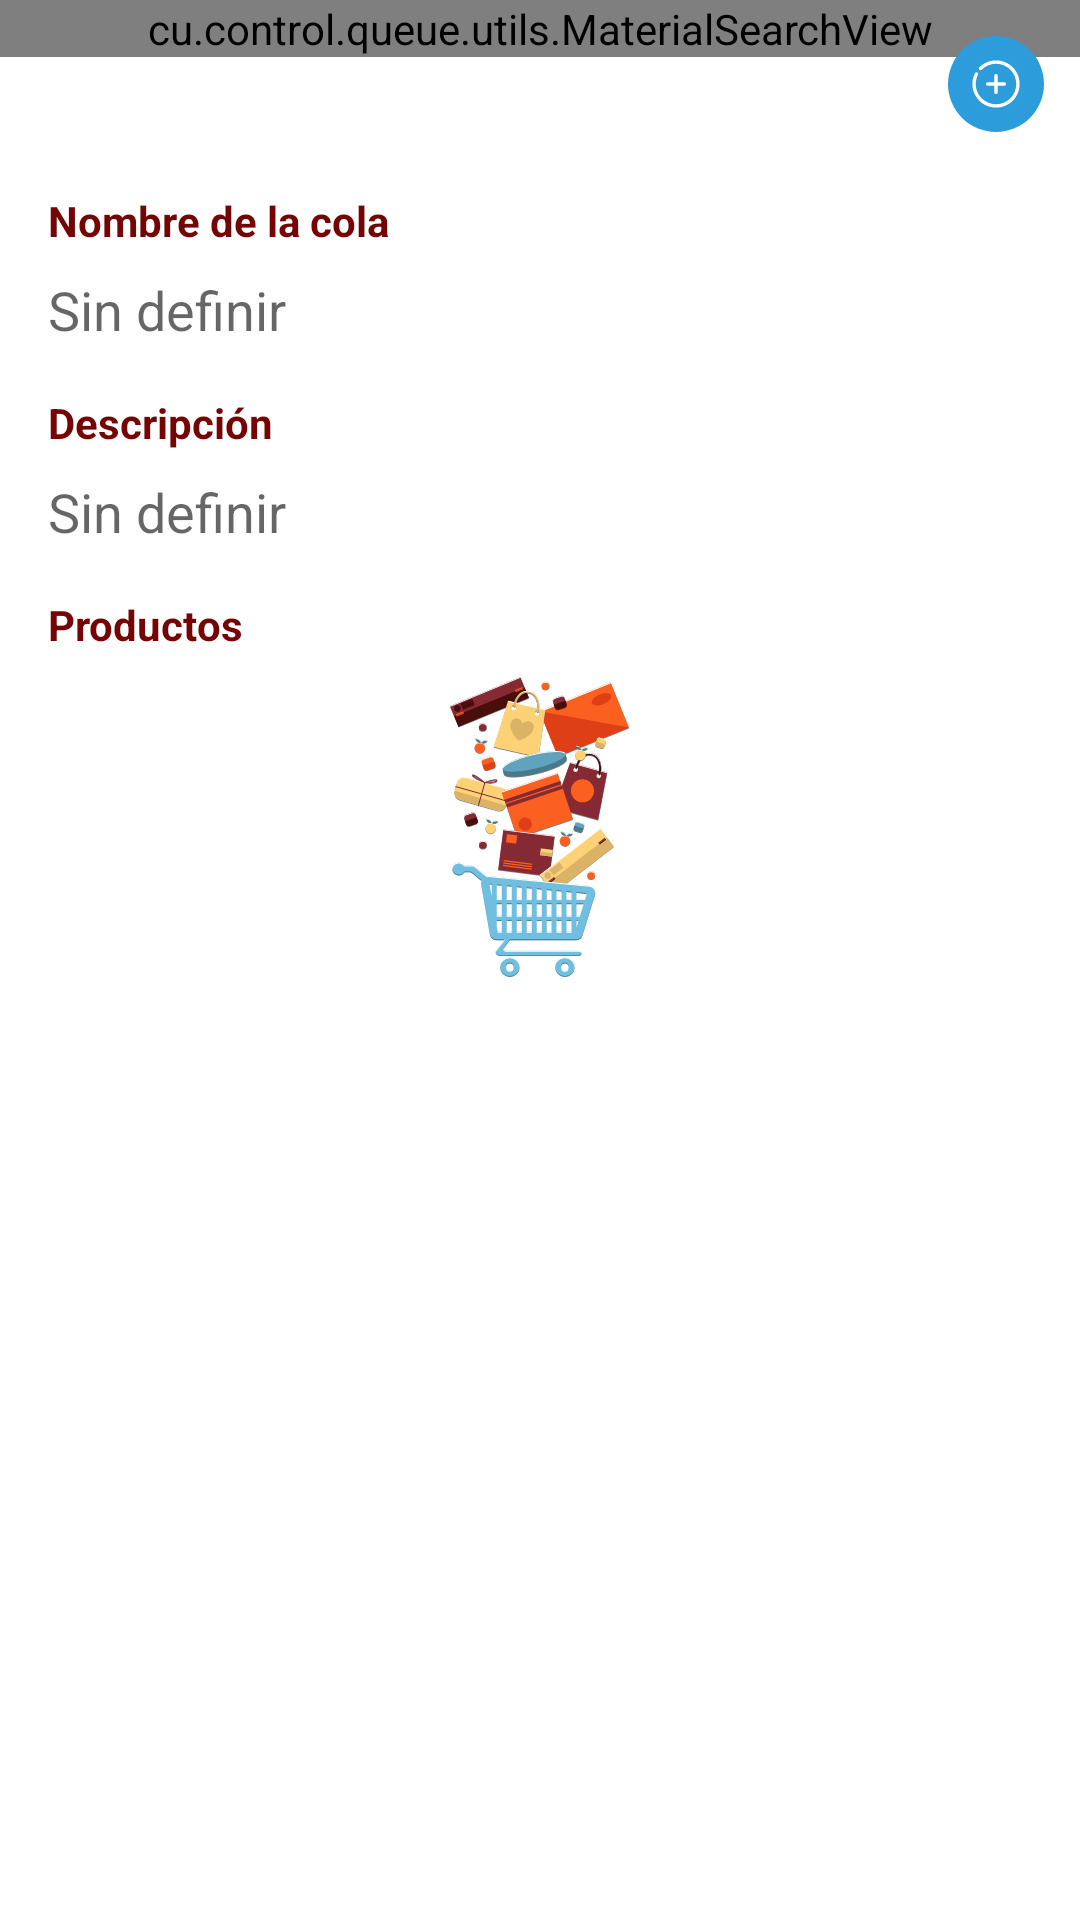

Icons on this 1080px x 1920px Android screen, each with the point to tap as (x=x, y=y):
add queue: (x=996, y=84)
